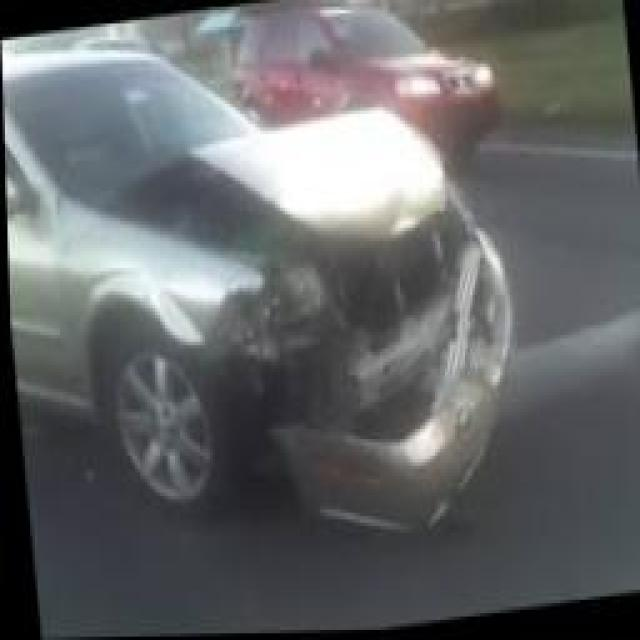Bonnet: (101, 101, 461, 348)
Bumper: (195, 241, 520, 532)
Fender: (66, 249, 205, 350)
Light: (226, 274, 329, 351)
